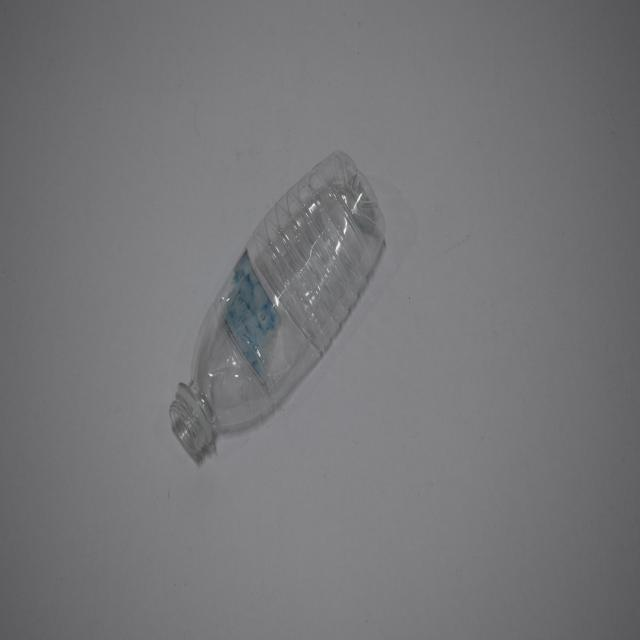bottle: (154, 132, 397, 494)
